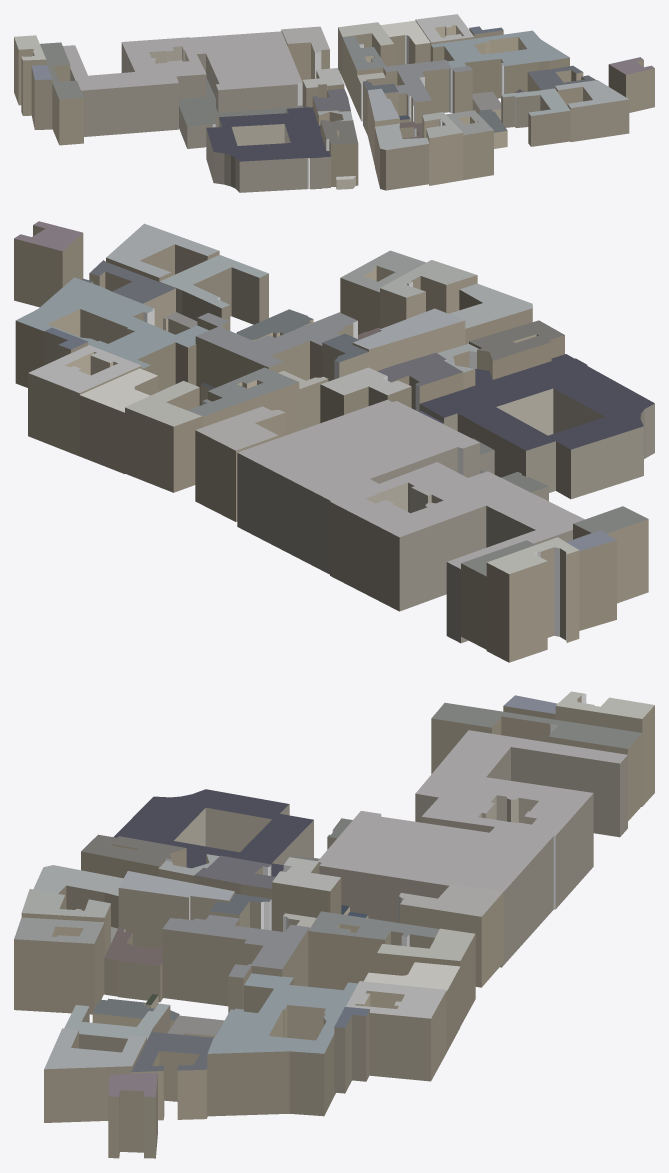
3 views of the same model, one above another, from view 1: azimuth 30°, elevation 25°; view 2: azimuth 150°, elevation 25°; view 3: azimuth 270°, elevation 25° (orthographic). The views are drawn at different scales.
Visible parts, largest first — view 1: tuile; view 2: tuile; view 3: tuile.
Part boxes in pixels (box(x1,y1,x2,y2)): tuile: box(14, 14, 654, 192); tuile: box(14, 221, 654, 662); tuile: box(14, 691, 654, 1158).
Bounding box in the file's own units: 263 × 30.19 × 187.
